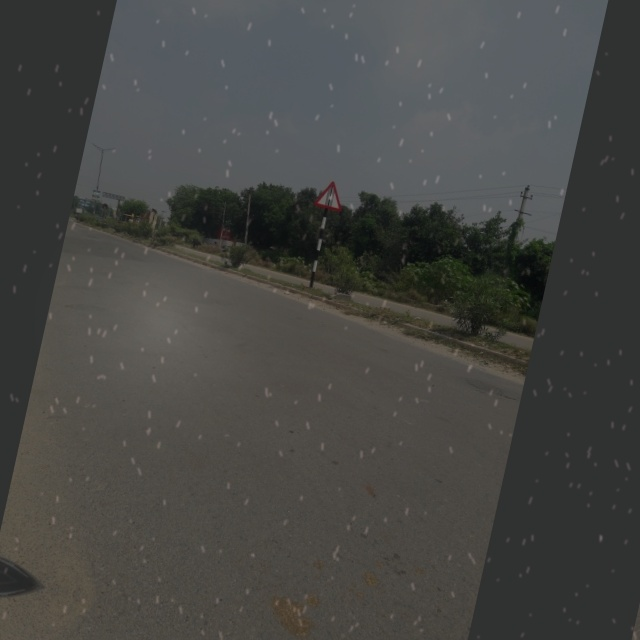Gap_in_Median: (307, 172, 355, 217)
